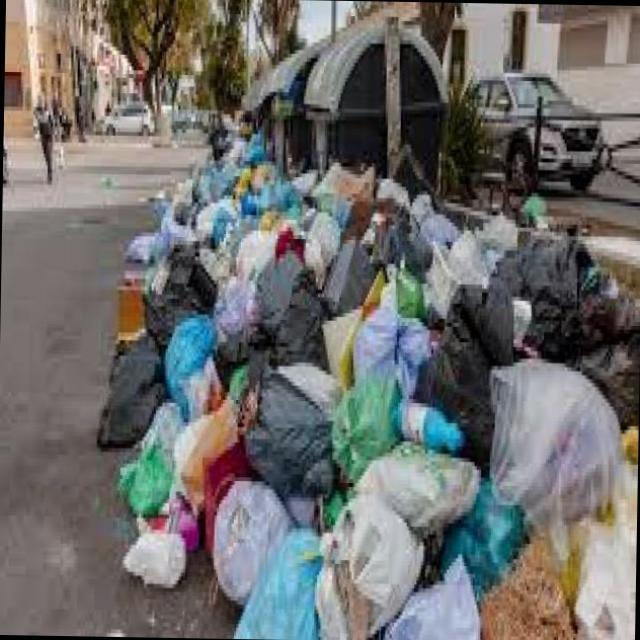garbage: (88, 139, 640, 640)
